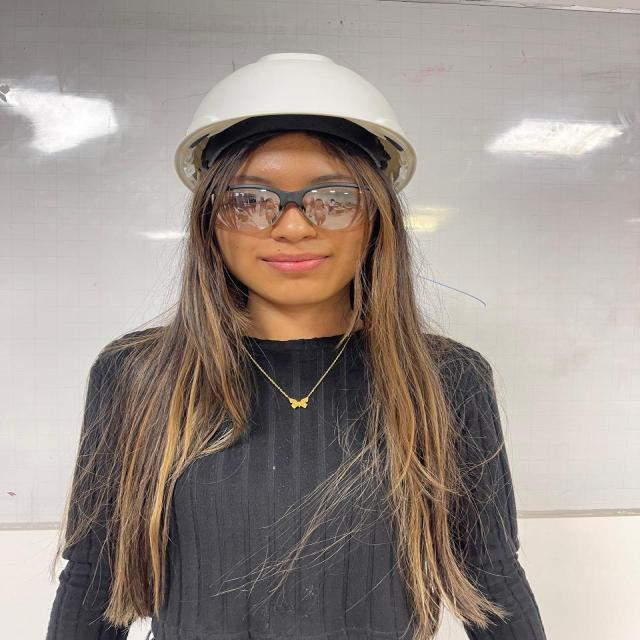helmet: (176, 54, 416, 179)
protective_glasses: (205, 180, 369, 231)
